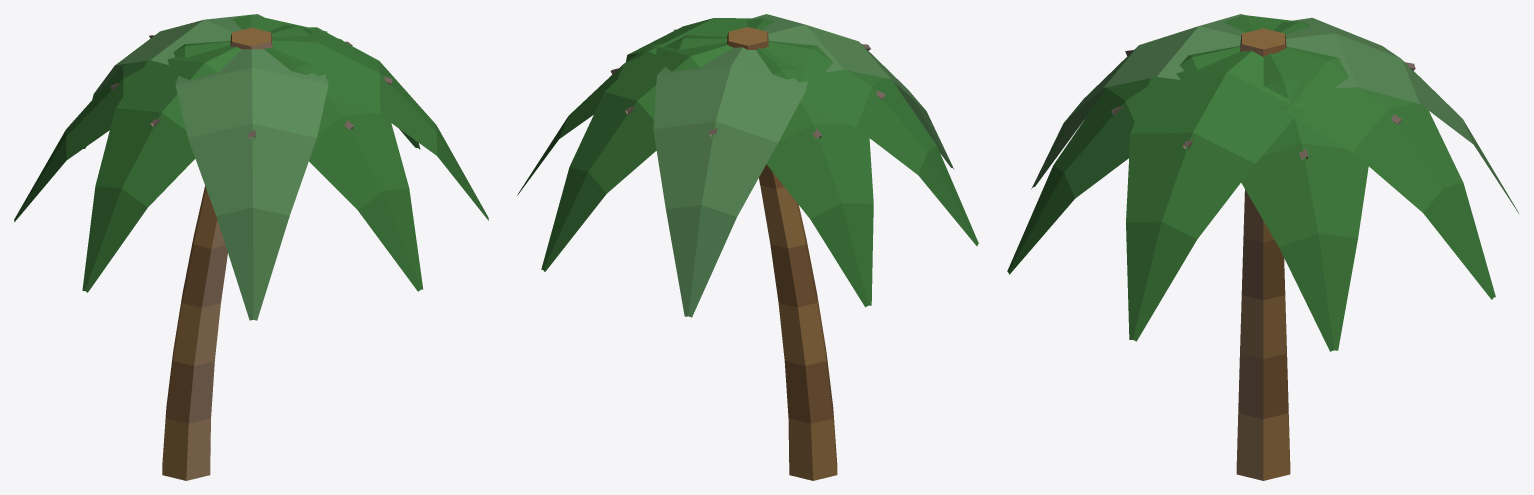
Rendered from palm_fan_short.glb.
3 renders of one model, left to right at view 1: azimuth 30°, elevation 25°; view 2: azimuth 150°, elevation 25°; view 3: azimuth 270°, elevation 25°, orthographic. The views are drawn at different scales.
Visible parts, largest first — view 1: palm_fan_short; view 2: palm_fan_short; view 3: palm_fan_short.
Boxes of the visible parts, box(x1,y1,x2,y2) form: palm_fan_short: box(14, 14, 488, 480); palm_fan_short: box(517, 14, 978, 480); palm_fan_short: box(1007, 14, 1519, 480).
Size of the model in its own units: 3.5 by 3.5 by 3.5.
